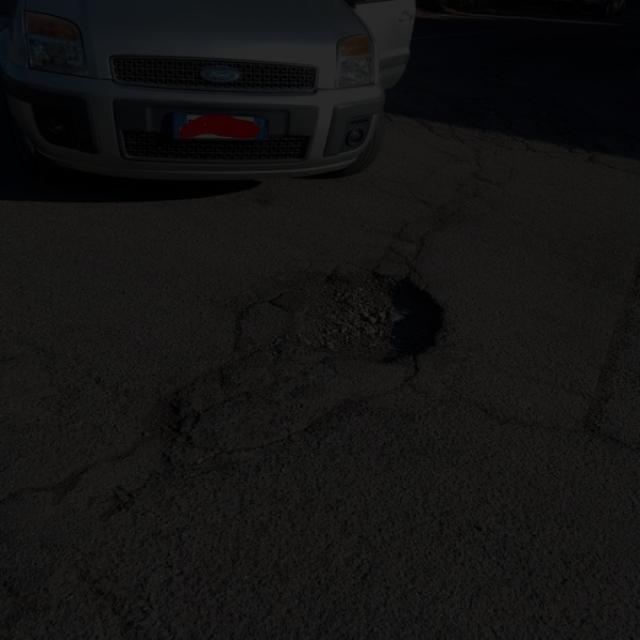pothole: (296, 251, 454, 377)
